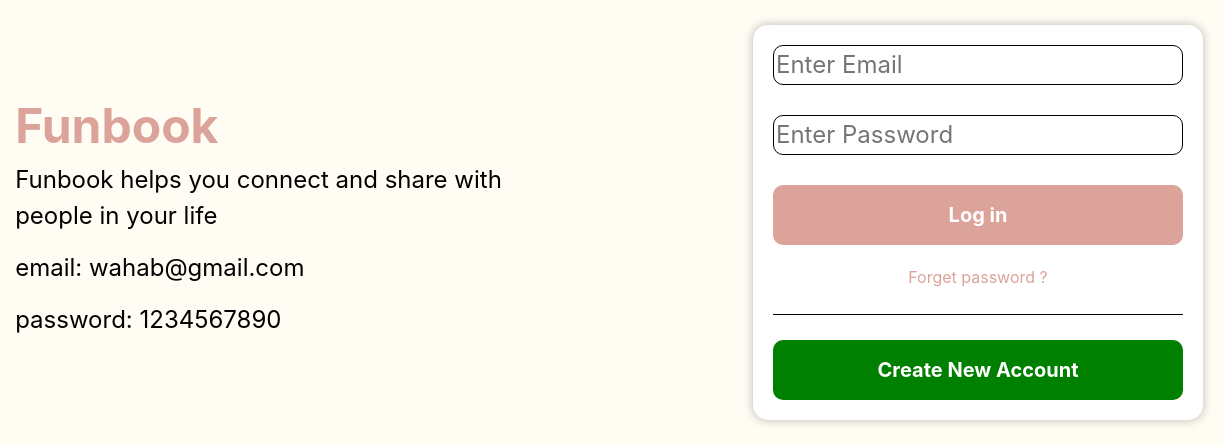
Test case: invalid email
Type "name.com" into the field with test id "email".
click(978, 64); type("name.com")  # box x1=773 y1=44 x2=1183 y2=84
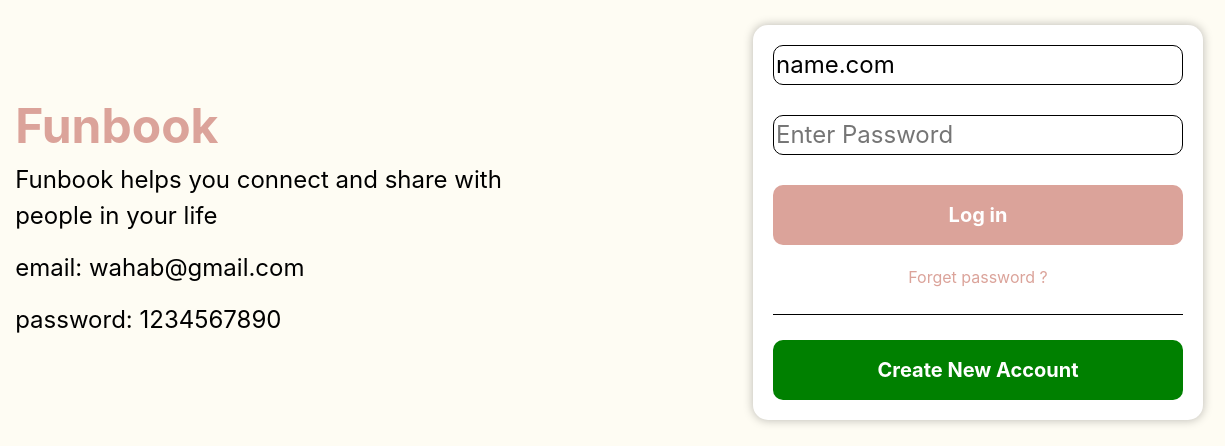
Click the button "Log in".
click(978, 214)  # box x1=773 y1=184 x2=1183 y2=244
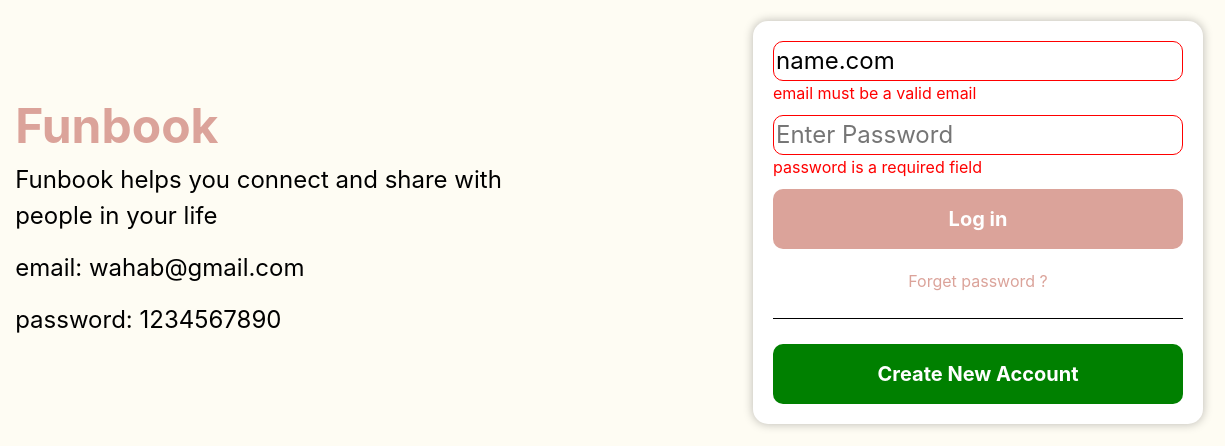
Expected: the text with test id "error.email" reads "email must be a valid email", x1=773 y1=82 x2=976 y2=102
